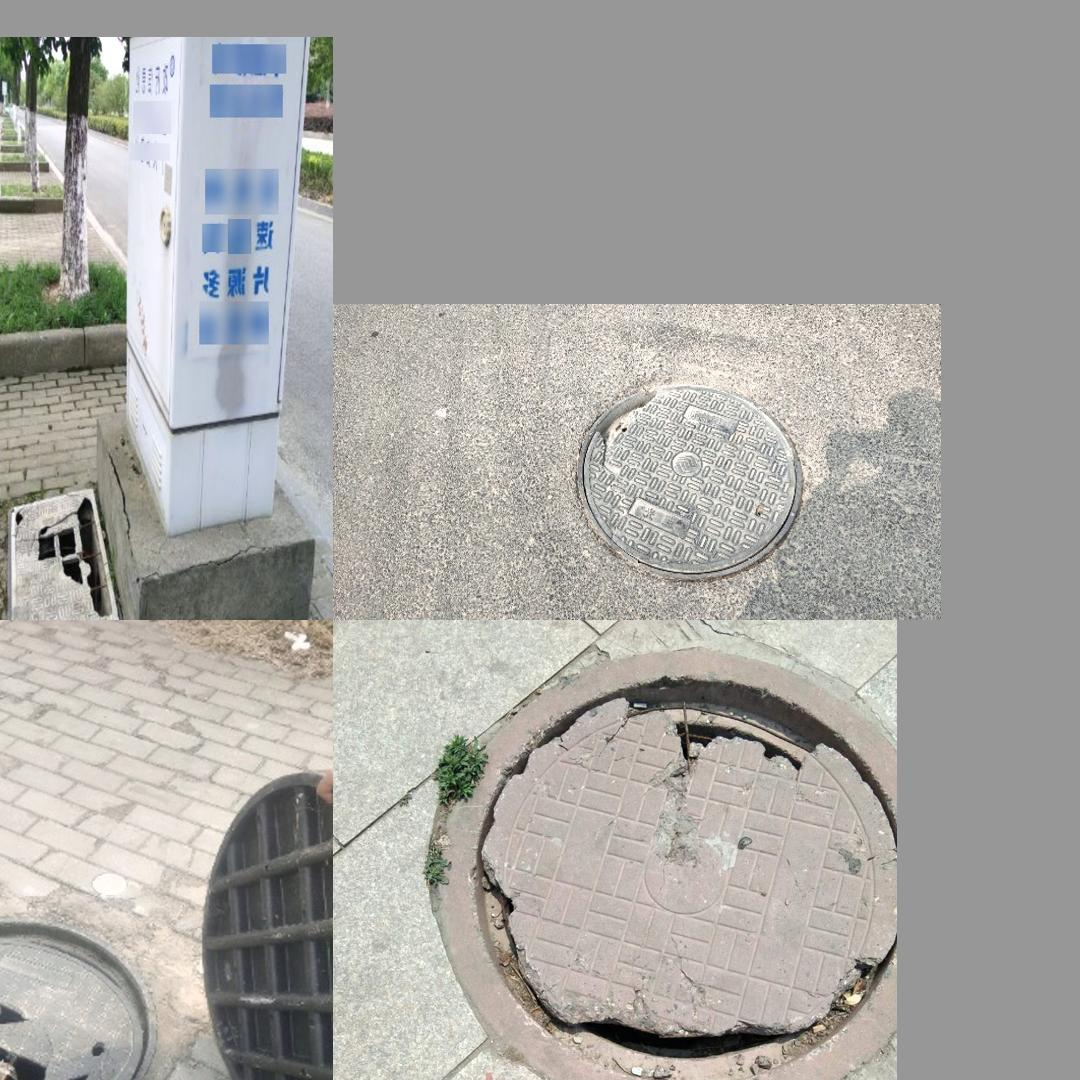broke: (444, 648, 897, 1080), (575, 383, 803, 581), (0, 914, 157, 1080), (2, 484, 124, 620)
